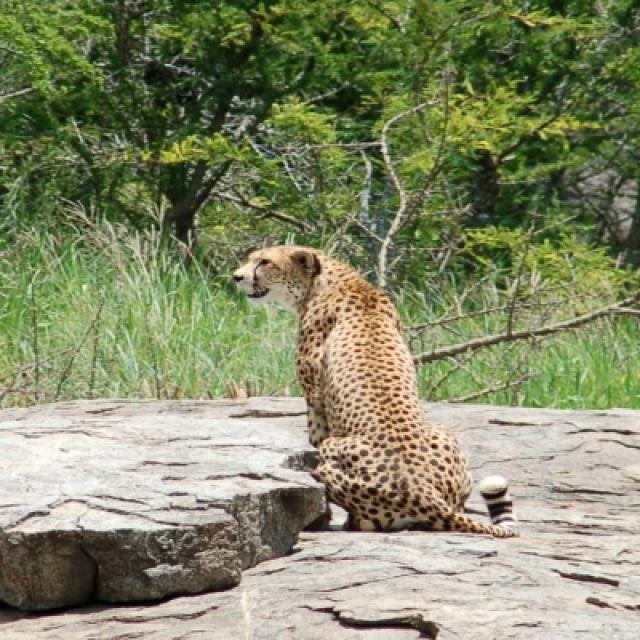Cheetah: (232, 246, 475, 533)
